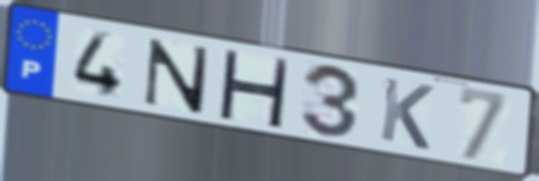3: (298, 63, 362, 141)
4: (70, 29, 126, 100)
7: (454, 84, 514, 164)
H: (214, 46, 293, 131)
K: (377, 74, 437, 153)
N: (139, 36, 213, 116)
